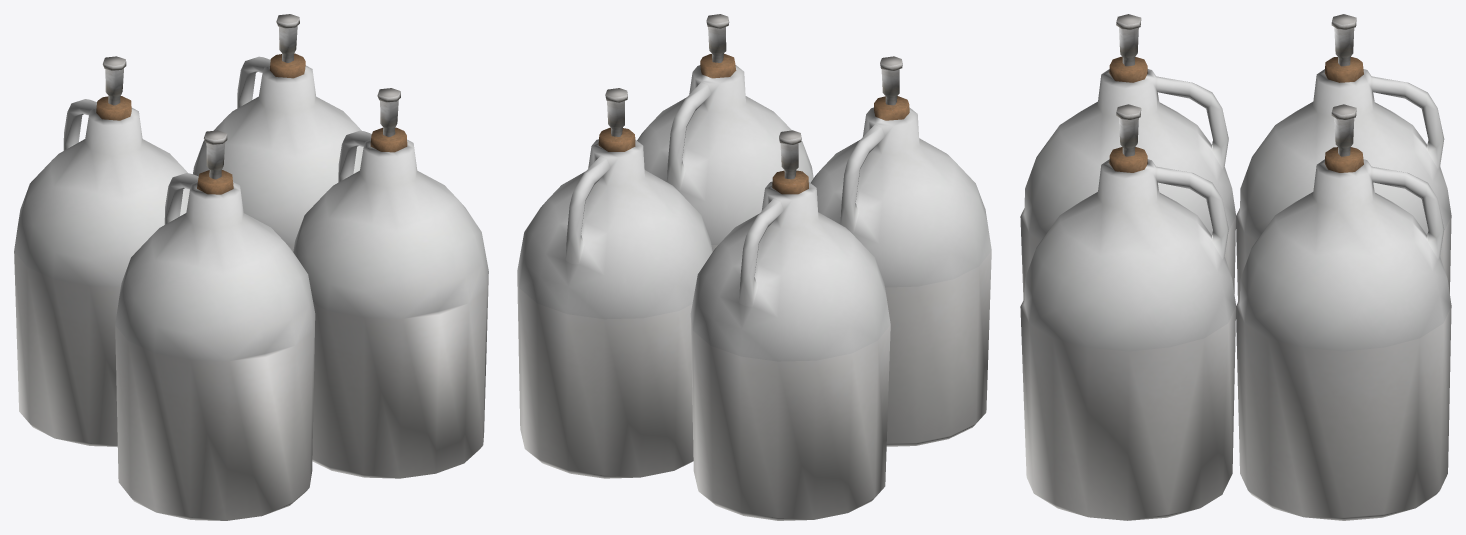
The model's file is PackGallonCarboys.fbx.
3 renders of one model, left to right at view 1: azimuth 30°, elevation 25°; view 2: azimuth 150°, elevation 25°; view 3: azimuth 270°, elevation 25°, orthographic. The views are drawn at different scales.
Parts seen in each view (by area): view 1: Cylinder.003; view 2: Cylinder.003; view 3: Cylinder.003.
Part boxes in pixels (x1,y1,x2,y2): Cylinder.003: [14, 14, 488, 520]; Cylinder.003: [517, 14, 991, 520]; Cylinder.003: [1020, 14, 1451, 520].
Size of the model in its own units: 0.4038 by 0.3837 by 0.4061.
